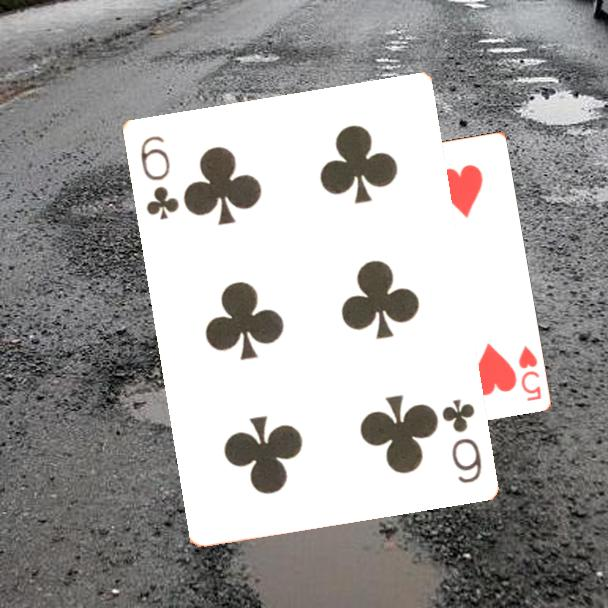c06: (136, 131, 182, 222), (438, 395, 484, 486)
h05: (514, 342, 544, 403)
